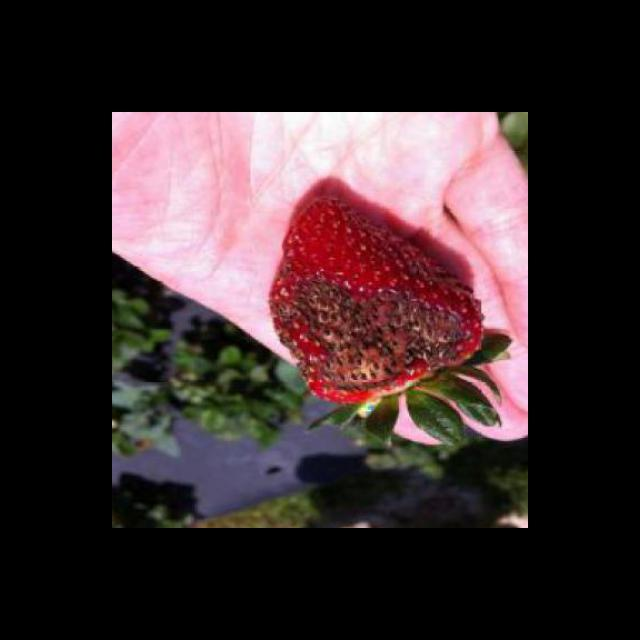Anthracnose Fruit Rot: (267, 254, 486, 404)
